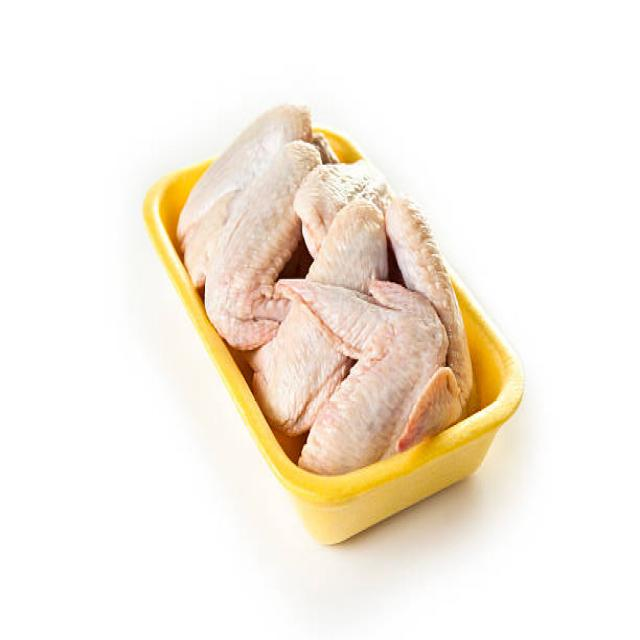Chicken: (283, 267, 447, 469)
